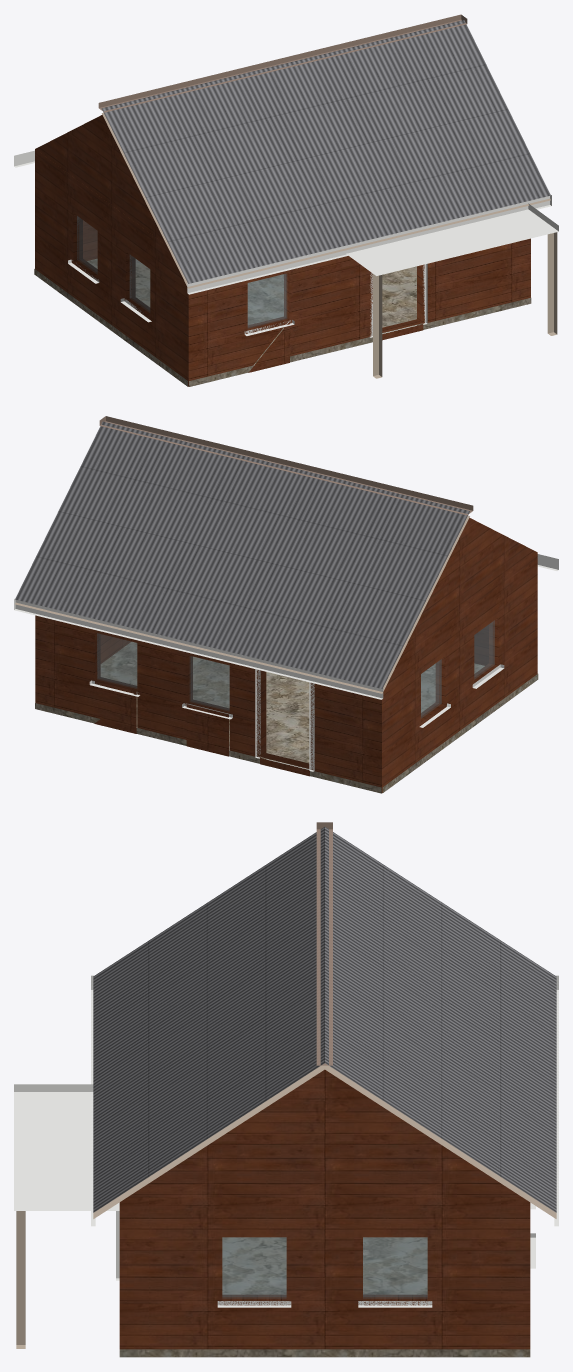
File: cottage-wood.reveal-v1.lod1.glb
The picture shows the model from 3 angles, top to bottom: view 1: azimuth 30°, elevation 25°; view 2: azimuth 150°, elevation 25°; view 3: azimuth 270°, elevation 25°; orthographic projection. The views are drawn at different scales.
Parts seen in each view (by area): view 1: cottage-wood; view 2: cottage-wood; view 3: cottage-wood.
Boxes of the visible parts, box(x1,y1,x2,y2) form: cottage-wood: box(14, 14, 558, 386); cottage-wood: box(14, 416, 558, 793); cottage-wood: box(14, 822, 558, 1357).
Size of the model in its own units: 9.54 by 5.74 by 9.29.
5 materials, 3 textured.
